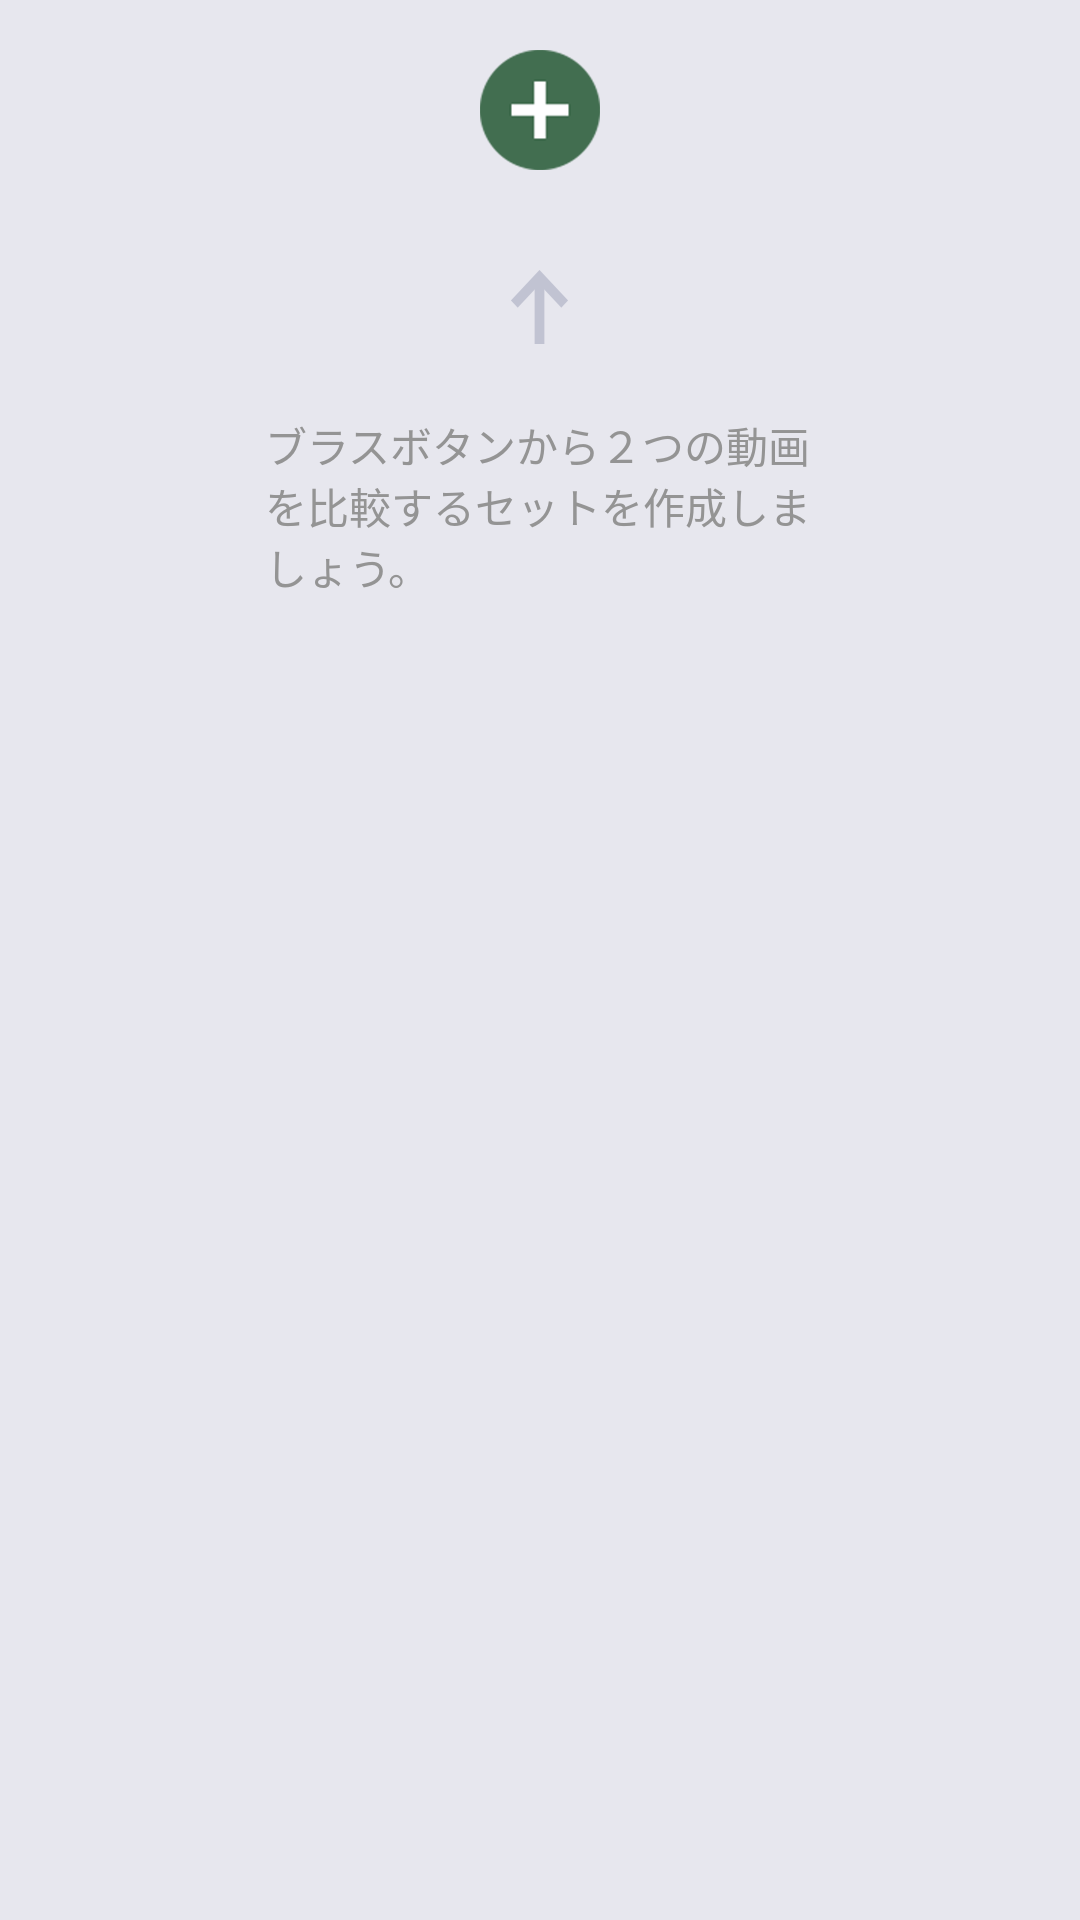

Where to tap for icons on this 1080px x 1920px app screen, as (x,y):
upallow: (539,307)
